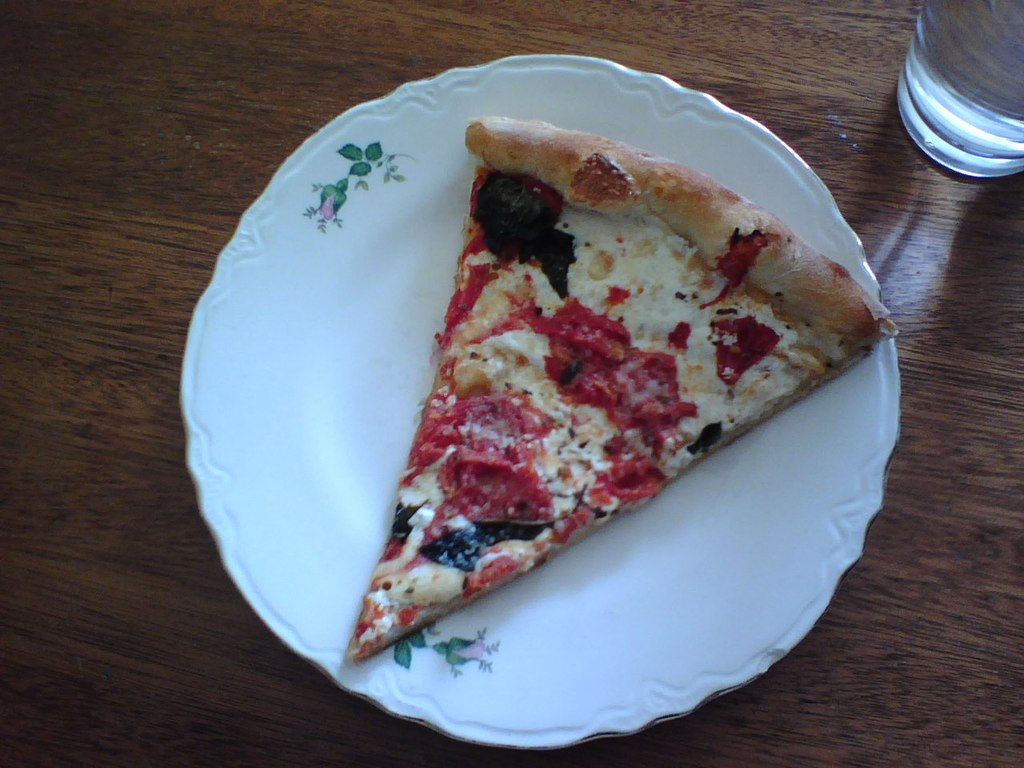Pizza: (339, 110, 905, 663)
